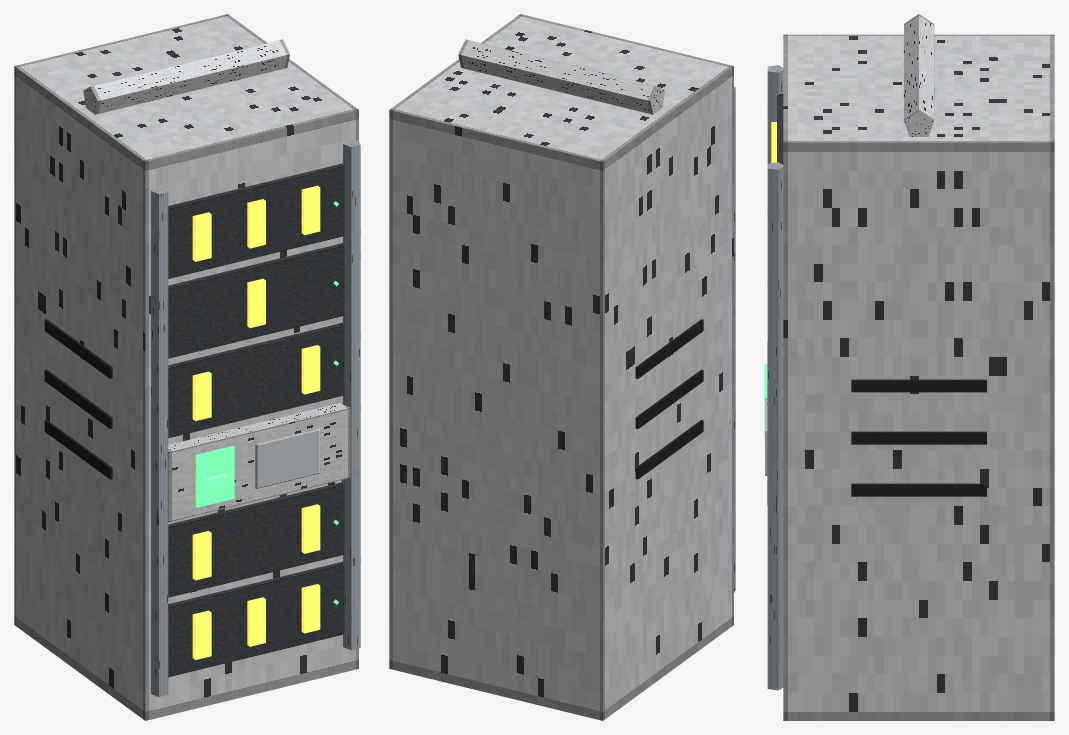
File: server_rack_medbay_clean.glb
3 renders of one model, left to right at view 1: azimuth 30°, elevation 25°; view 2: azimuth 150°, elevation 25°; view 3: azimuth 270°, elevation 25°, orthographic. The views are drawn at different scales.
Visible parts, largest first — view 1: server_rack_medbay_clean; view 2: server_rack_medbay_clean; view 3: server_rack_medbay_clean.
Part boxes in pixels (left/top/right/bottom): server_rack_medbay_clean: left=14, top=14, right=360, bottom=720; server_rack_medbay_clean: left=389, top=14, right=735, bottom=720; server_rack_medbay_clean: left=764, top=14, right=1054, bottom=720.
Bounding box in the file's own units: 0.818 × 2.09 × 0.91.
Materials: 9 (9 with a texture image).
